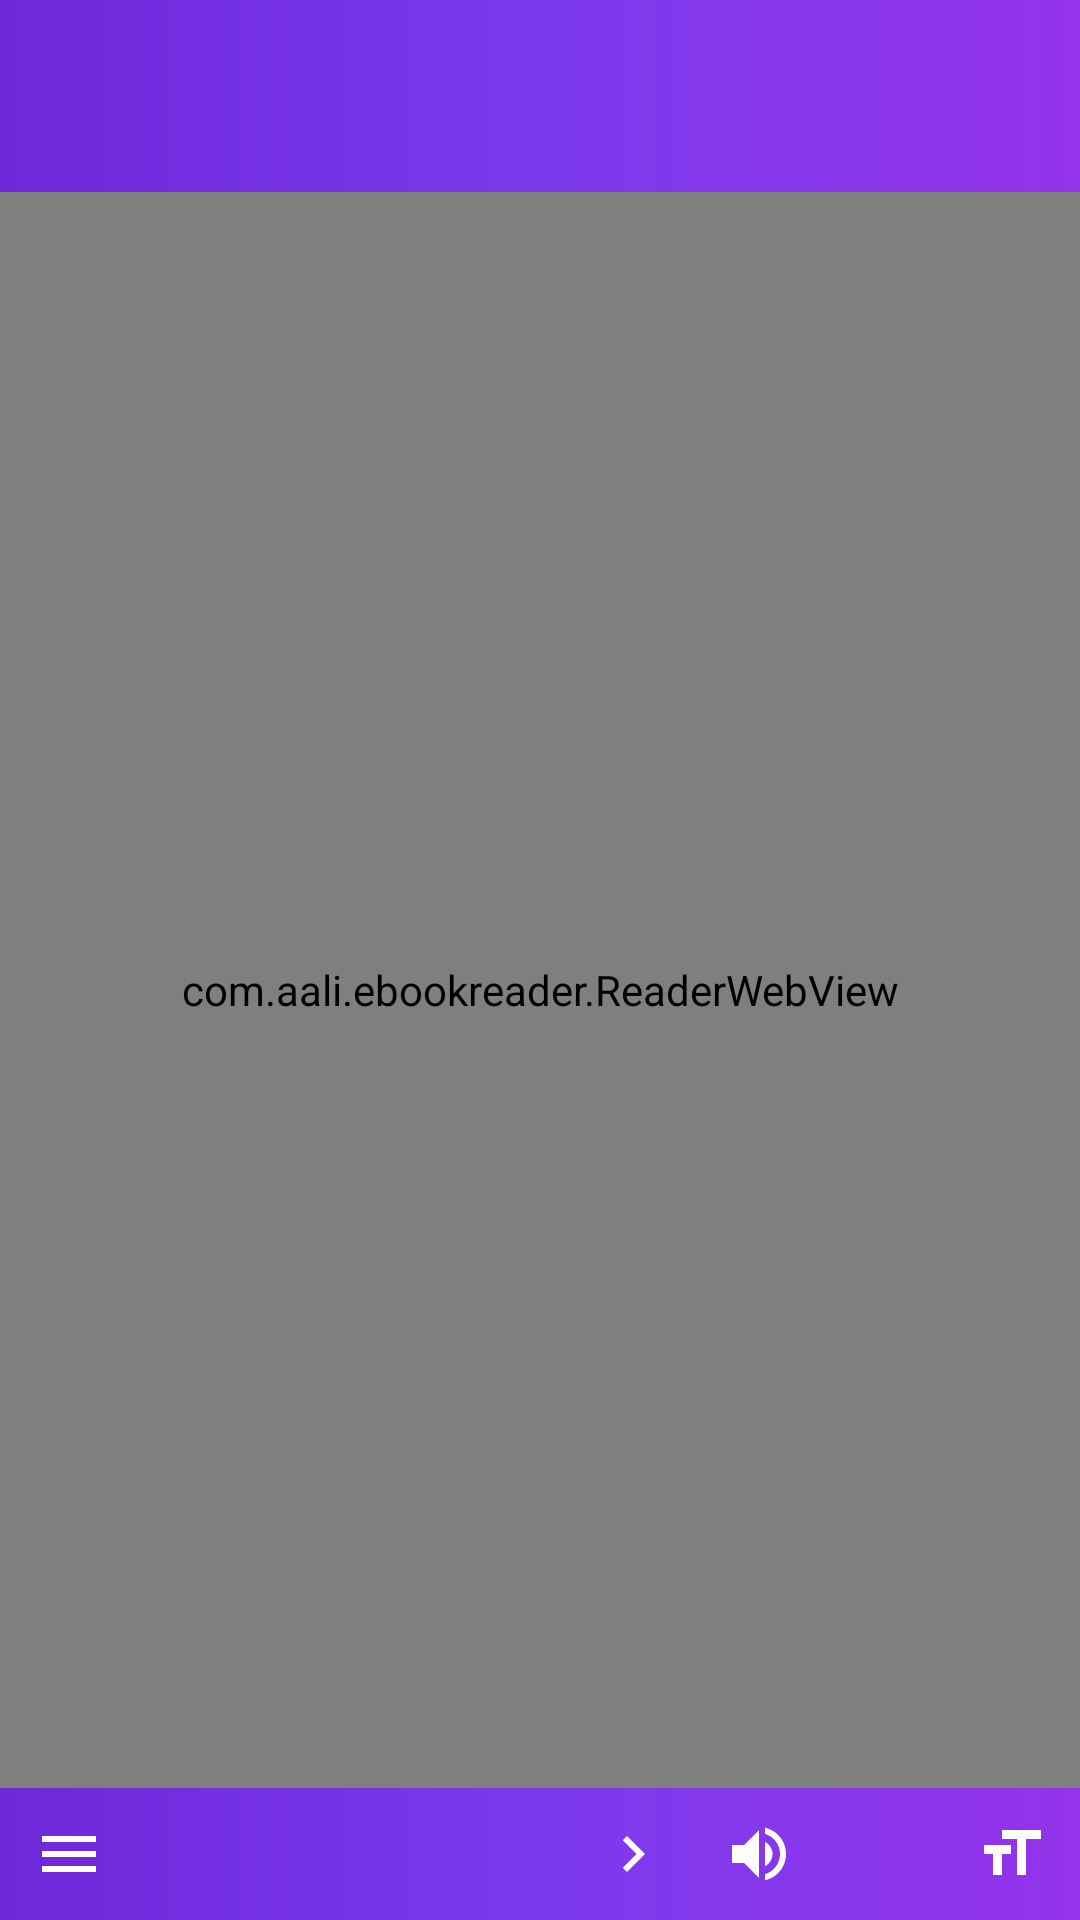

Icons on this 1080*1920 Android screen, each with the point to tap as [x,y]:
Contents: [69,1854]
Display: [1012,1852]
Next chapter: [634,1854]
Read aloud: [759,1854]
